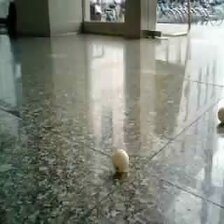w: (111, 149, 131, 171)
